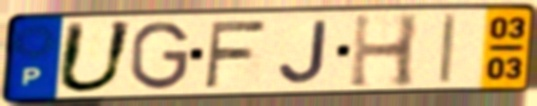F: (201, 18, 270, 90)
G: (128, 19, 192, 92)
H: (346, 12, 423, 91)
I: (436, 10, 459, 87)
J: (275, 17, 332, 86)
U: (52, 19, 138, 96)
